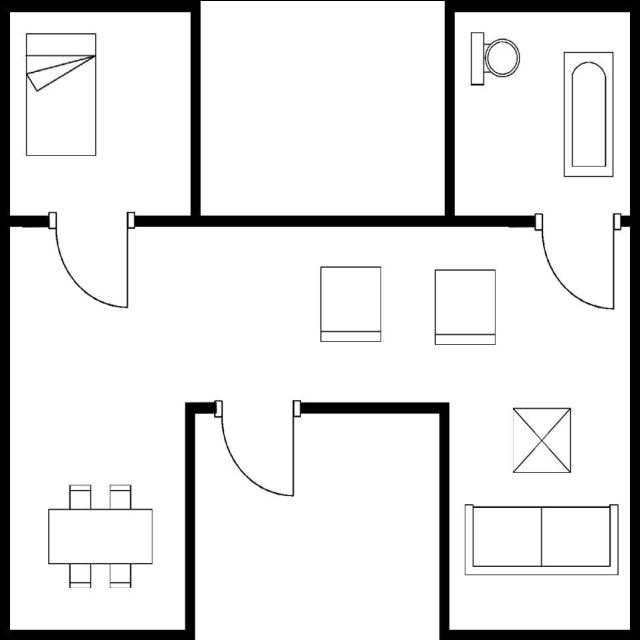bed: (19, 26, 103, 162)
coffee_table: (506, 402, 574, 482)
dining_table: (41, 478, 158, 594)
large_sink: (462, 27, 522, 92)
large_sofa: (458, 500, 622, 582)
small_sofa: (316, 262, 388, 348), (431, 265, 501, 353)
tub: (558, 46, 618, 182)
